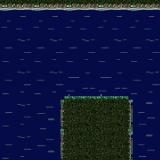Interaction: (0, 0, 160, 22)
Slow: (0, 10, 59, 160), (58, 10, 132, 95), (133, 12, 160, 160)
